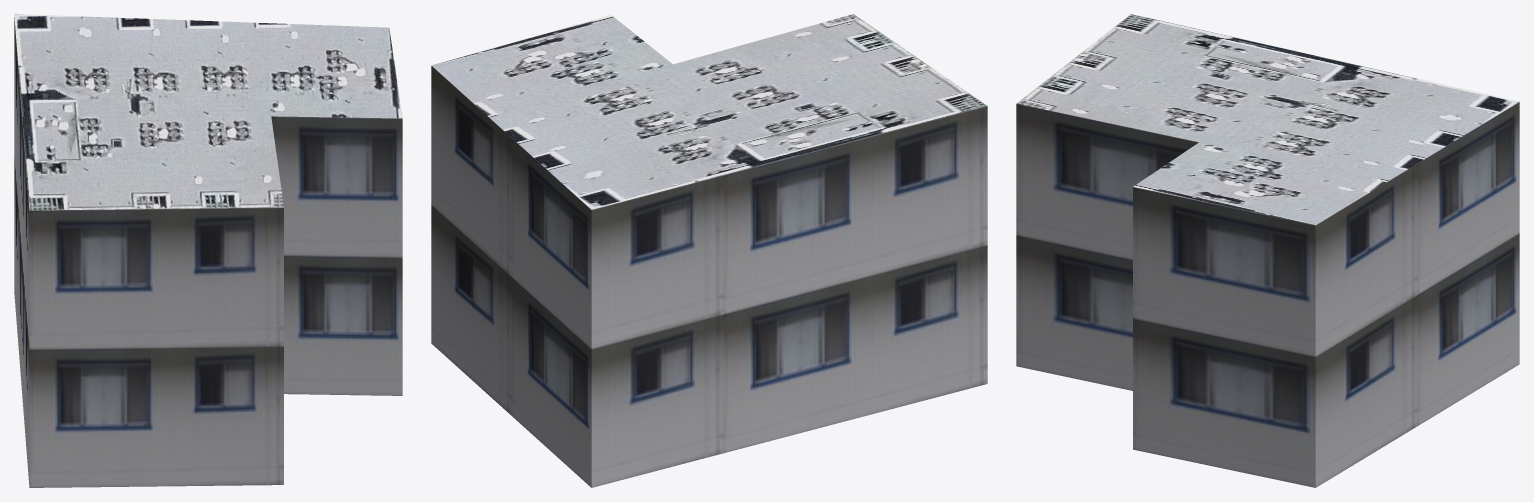
The model's file is ResTex__3856.fbx.
3 renders of one model, left to right at view 1: azimuth 30°, elevation 25°; view 2: azimuth 150°, elevation 25°; view 3: azimuth 270°, elevation 25°, orthographic. The views are drawn at different scales.
Parts seen in each view (by area): view 1: CityEngineMaterial_9_m, CityEngineMaterial_4_m; view 2: CityEngineMaterial_9_m, CityEngineMaterial_4_m; view 3: CityEngineMaterial_9_m, CityEngineMaterial_4_m.
Boxes of the visible parts, <box> form: CityEngineMaterial_9_m: <box>14,17,402,487</box>; CityEngineMaterial_4_m: <box>14,14,402,210</box>; CityEngineMaterial_9_m: <box>431,66,987,487</box>; CityEngineMaterial_4_m: <box>431,14,986,209</box>; CityEngineMaterial_9_m: <box>1016,102,1519,487</box>; CityEngineMaterial_4_m: <box>1017,14,1518,225</box>.
Size of the model in its own units: 10.35 by 6 by 10.41.
Materials: 2 (2 with a texture image).
